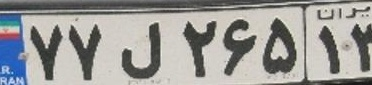character: (111, 17, 169, 85), (258, 9, 304, 85), (173, 15, 221, 85), (218, 13, 260, 85), (65, 17, 107, 85), (25, 18, 66, 85), (309, 22, 348, 84), (350, 19, 372, 75)
